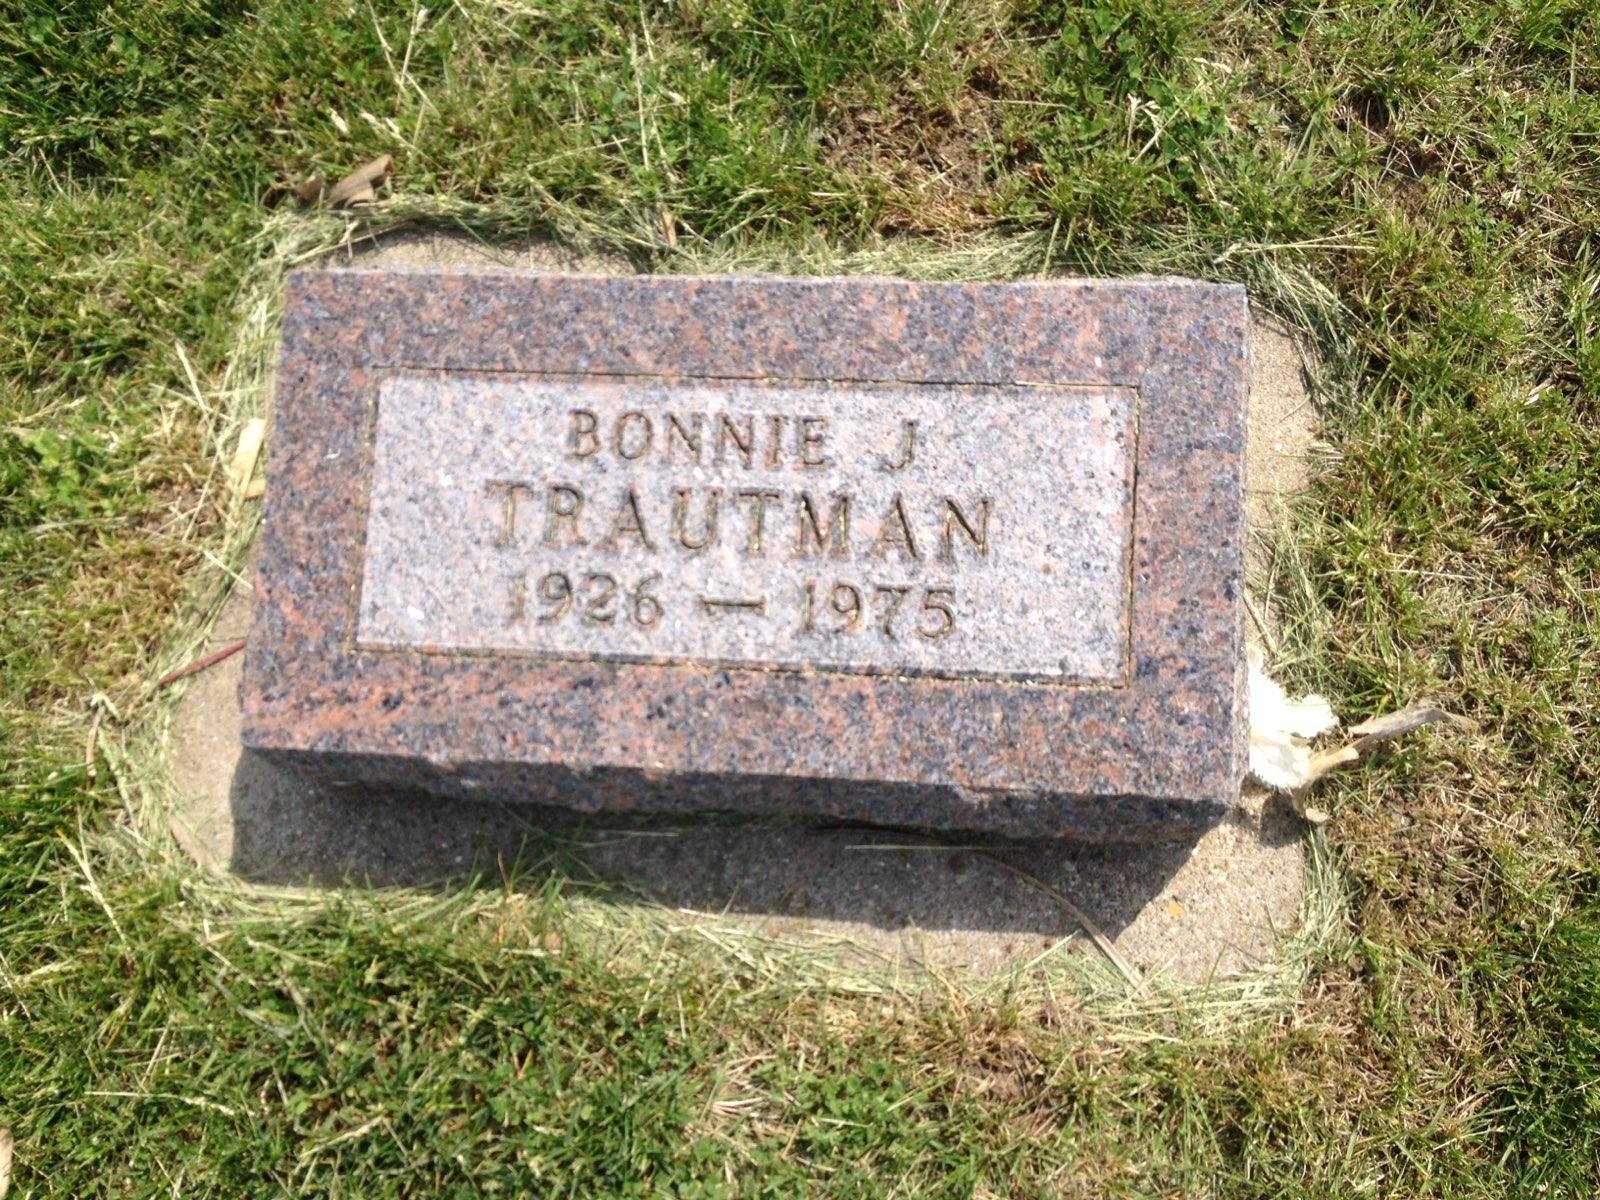flat: (166, 239, 1327, 901)
